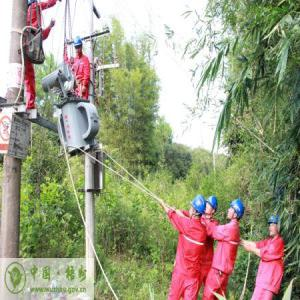blue: (228, 199, 246, 224), (190, 196, 206, 223), (269, 215, 283, 240), (205, 196, 218, 221), (75, 36, 85, 55)
